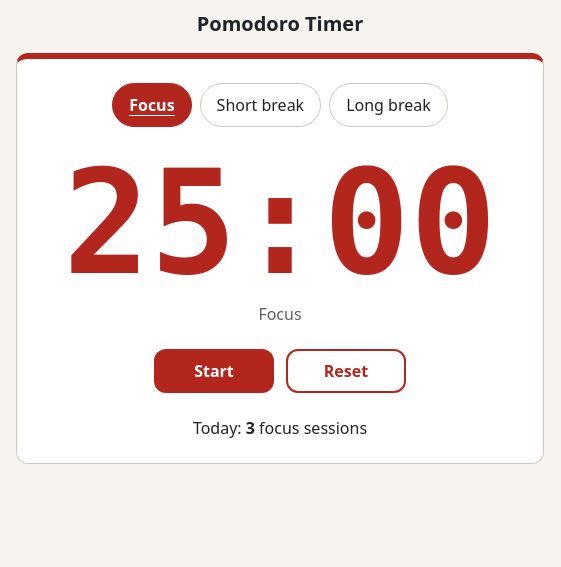
Test case: S5 Switch to the suggested next mode and wait for Start › Focus ending at cycle position 4 switches to Long break, 15:00, stopped
Click the button "Start". click: click(214, 371)
box: [154,349,274,393]
Wait 1500500 ms
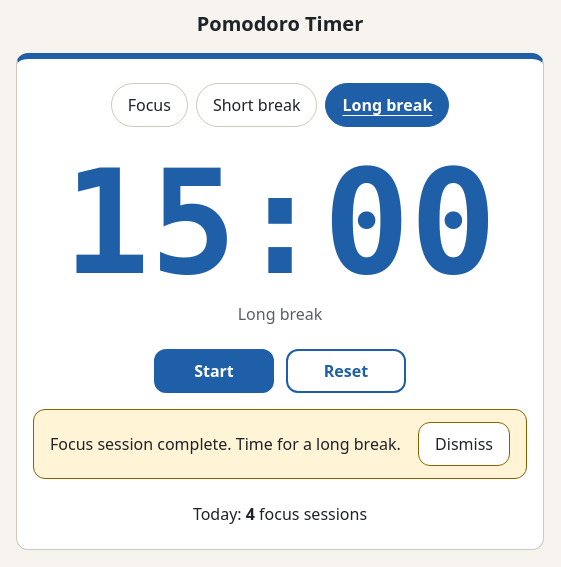
Check: the message shows "Focus session complete. Time for a long break.", box [50,433,401,455]
